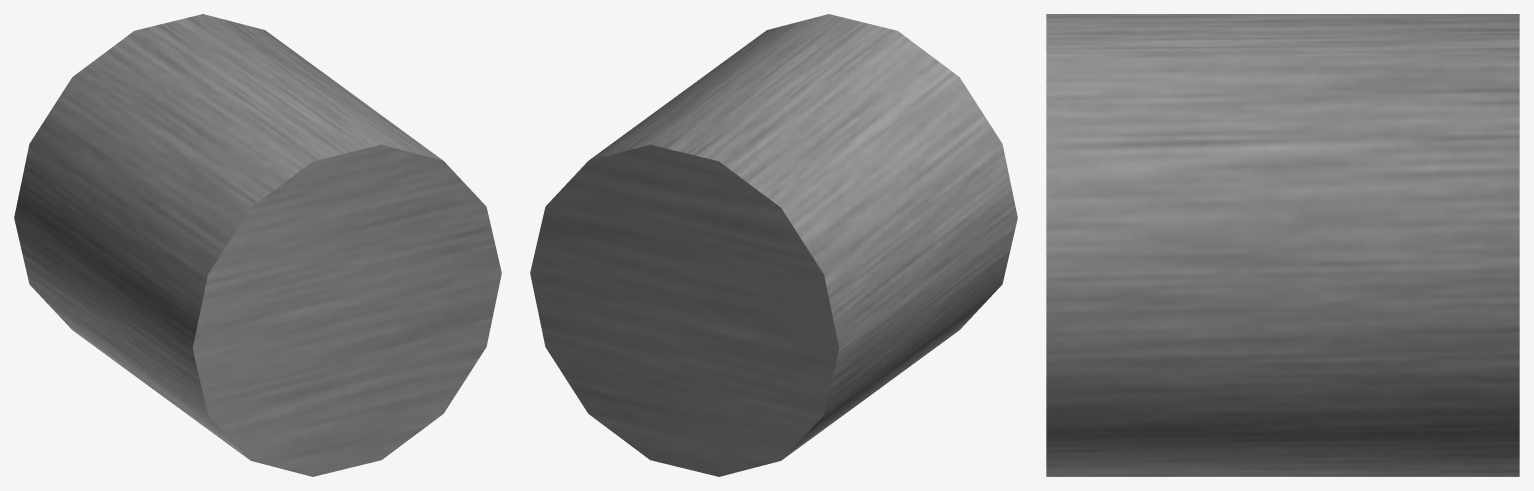
Rendered from pipe-1x1.fbx.
The picture shows the model from 3 angles, left to right: view 1: azimuth 30°, elevation 25°; view 2: azimuth 150°, elevation 25°; view 3: azimuth 270°, elevation 25°; orthographic projection. The views are drawn at different scales.
Parts seen in each view (by area): view 1: pipe_1x1; view 2: pipe_1x1; view 3: pipe_1x1.
Part boxes in pixels (x1,y1,x2,y2): pipe_1x1: (14,14,501,476); pipe_1x1: (530,14,1017,476); pipe_1x1: (1046,14,1519,476).
Bounding box in the file's own units: 96.72 × 94.29 × 96.72.
